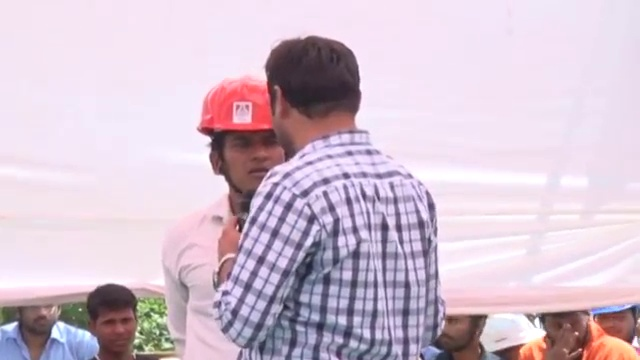helmet: (193, 84, 277, 135), (478, 313, 545, 354)
helmet_off: (260, 39, 365, 164), (85, 287, 139, 356), (12, 303, 65, 335)
helmet_on: (193, 82, 287, 207)
person: (213, 37, 440, 360), (159, 81, 289, 357), (1, 300, 99, 359), (525, 308, 604, 355), (433, 312, 492, 359), (587, 311, 640, 351)
